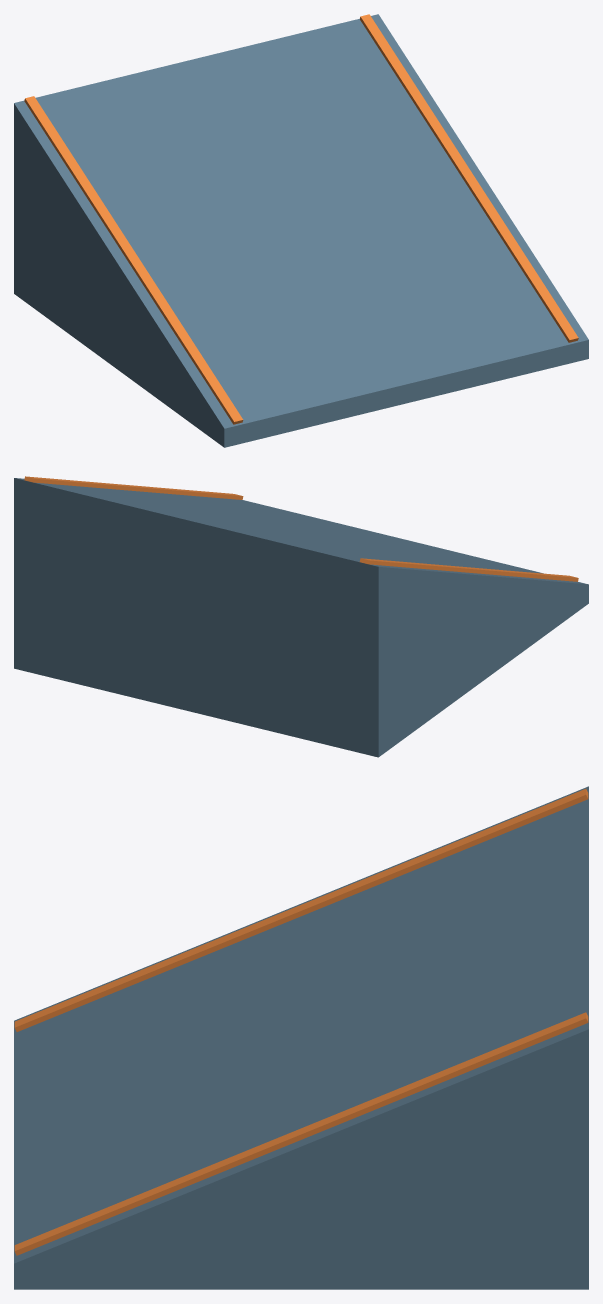
The model's file is ramp.glb.
3 renders of one model, top to bottom at view 1: azimuth 30°, elevation 25°; view 2: azimuth 150°, elevation 25°; view 3: azimuth 270°, elevation 25°, orthographic. The views are drawn at different scales.
Visible parts, largest first — view 1: wedge, edge--0.92, edge-0.92; view 2: wedge, edge--0.92, edge-0.92; view 3: wedge, edge-0.92, edge--0.92.
Boxes of the visible parts, x1,y1,x2,y2 form: wedge: [14, 14, 588, 447]; edge--0.92: [24, 96, 243, 424]; edge-0.92: [360, 14, 578, 342]; wedge: [14, 478, 588, 757]; edge--0.92: [359, 558, 578, 581]; edge-0.92: [24, 476, 243, 499]; wedge: [14, 786, 588, 1289]; edge-0.92: [14, 1012, 588, 1255]; edge--0.92: [14, 789, 588, 1031].
Bounding box in the file's own units: 2 × 1.02 × 2.
